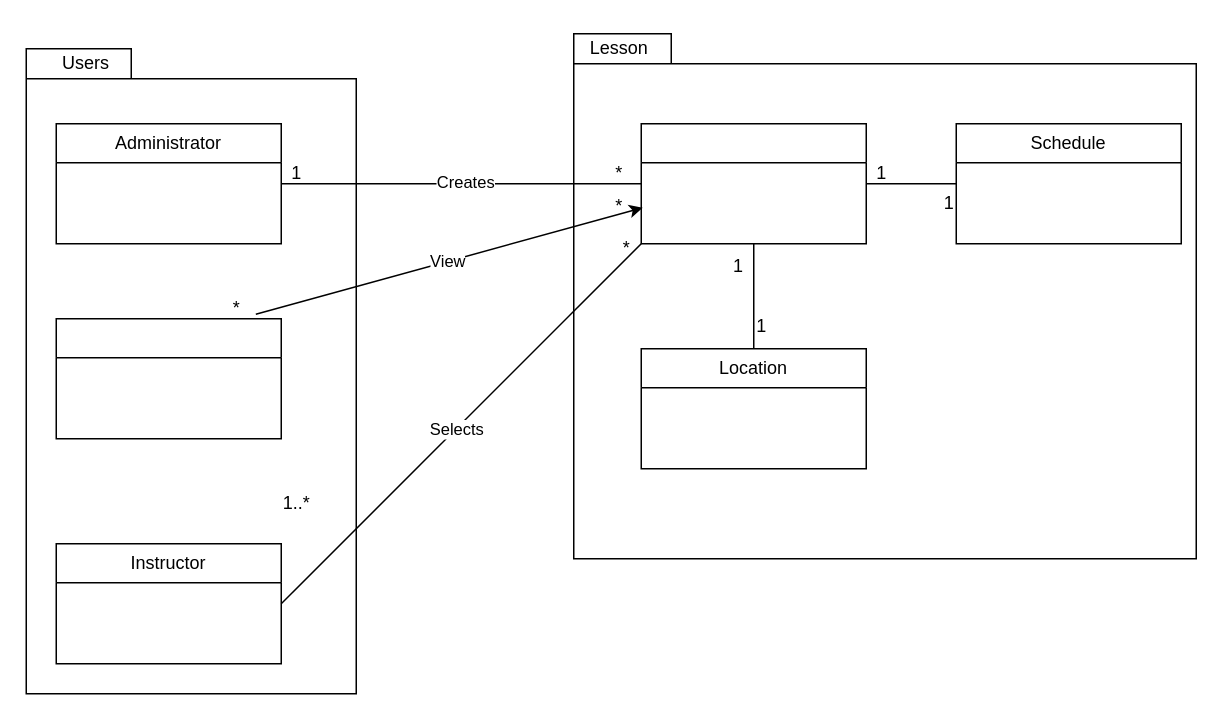
This 1223x720 diagram has some shape labels left out. Each missing label, with the centre of its shape:
Offerings: the point at 753,183
Publlic: the point at 168,378
